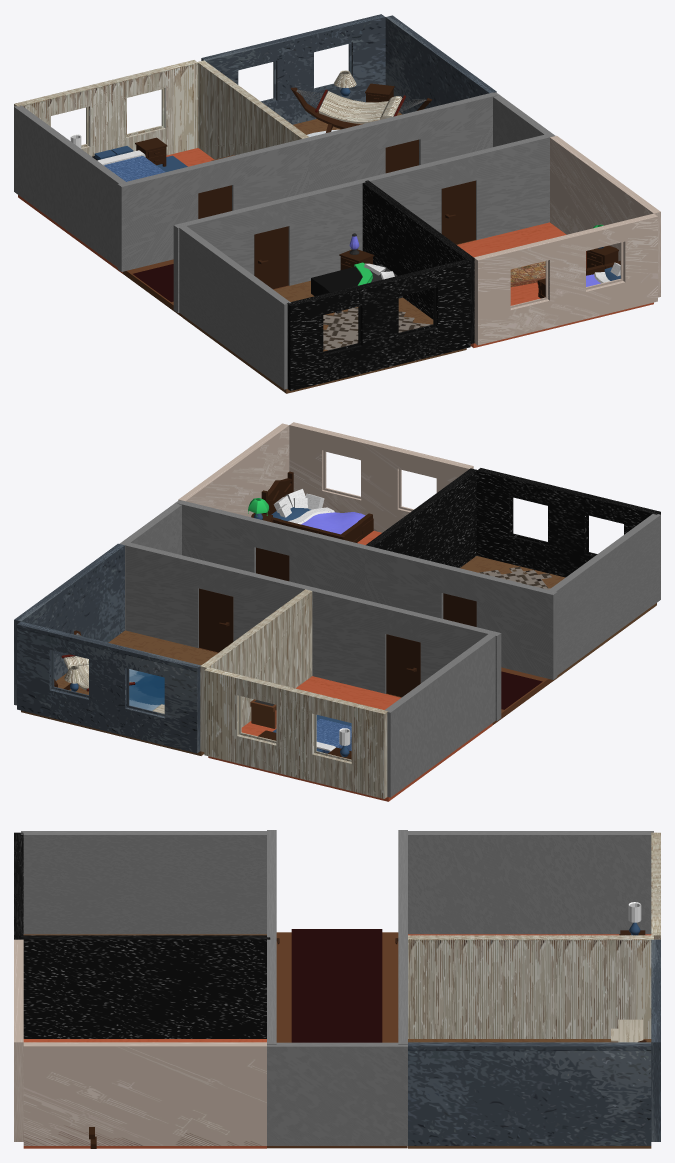
Rendered from Batch1.dae.
The picture shows the model from 3 angles, top to bottom: view 1: azimuth 30°, elevation 25°; view 2: azimuth 150°, elevation 25°; view 3: azimuth 270°, elevation 25°; orthographic projection. The views are drawn at different scales.
Parts seen in each view (by area): view 1: GamerWall1, HippyWall, GrayWall_ncl1_2, GrayWall, GreyWall, GamerWall4, Nerdwall2, GrayWall_ncl1_1, NerdWall1, SurferWall1, GamerWall2, HippyWall2 (+18 smaller); view 2: NerdWall1, SurferWall1, GreyWall, GrayWall_ncl1_2, GrayWall_ncl1_1, Nerdwall2, GamerWall1, GamerWall4, GrayWall, HippyWall, Nerdwall, SurferWall (+18 smaller); view 3: GamerWall2, GamerWall4, SurferWall, HippyWall2, Nerdwall2, Nerdwall, HallEnd_GrayWall, HallRug, Floor__dirt_, HippyWall, SurferWall1, floor_1 (+9 smaller).
Boxes of the visible parts, <box> form: GamerWall1: <box>287,259,470,390</box>; HippyWall: <box>474,213,657,345</box>; GrayWall_ncl1_2: <box>117,138,309,271</box>; GrayWall: <box>362,133,552,239</box>; GreyWall: <box>173,179,365,312</box>; GamerWall4: <box>179,226,290,389</box>; Nerdwall2: <box>14,105,125,267</box>; GrayWall_ncl1_1: <box>306,92,497,191</box>; NerdWall1: <box>14,60,198,156</box>; SurferWall1: <box>201,14,385,124</box>; GamerWall2: <box>362,180,474,343</box>; HippyWall2: <box>550,135,660,297</box>; NerdWall1: <box>204,667,387,798</box>; SurferWall1: <box>17,621,200,753</box>; GreyWall: <box>365,546,557,679</box>; GrayWall_ncl1_2: <box>309,587,501,720</box>; GrayWall_ncl1_1: <box>122,541,312,647</box>; Nerdwall2: <box>385,634,495,797</box>; GamerWall1: <box>476,468,660,577</box>; GamerWall4: <box>549,513,660,675</box>; GrayWall: <box>177,500,368,599</box>; HippyWall: <box>289,422,473,532</box>; Nerdwall: <box>200,589,312,751</box>; SurferWall: <box>14,543,124,705</box>; GamerWall2: <box>21,935,270,1038</box>; GamerWall4: <box>21,831,266,934</box>; SurferWall: <box>408,1042,651,1145</box>; HippyWall2: <box>23,1042,266,1145</box>; Nerdwall2: <box>408,831,653,934</box>; Nerdwall: <box>408,935,653,1038</box>; HallEnd_GrayWall: <box>267,1042,407,1145</box>; HallRug: <box>291,929,382,1042</box>; Floor__dirt_: <box>267,932,407,1148</box>; HippyWall: <box>14,939,23,1141</box>; SurferWall1: <box>651,939,660,1141</box>; floor_1: <box>23,1039,266,1148</box>.
Size of the model in its own units: 1456 by 322 by 1777.
